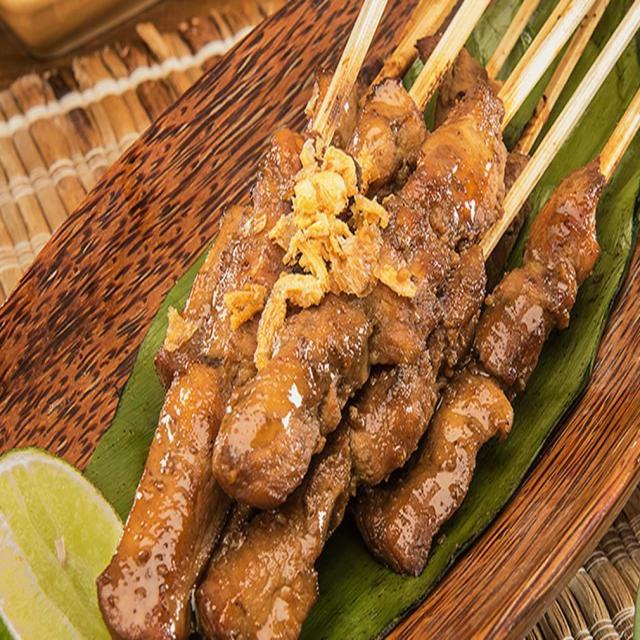Sate: (204, 29, 611, 626)
